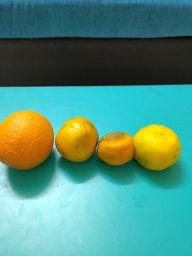orange: (0, 110, 55, 171), (133, 124, 181, 172), (55, 116, 99, 164), (97, 132, 135, 167)
